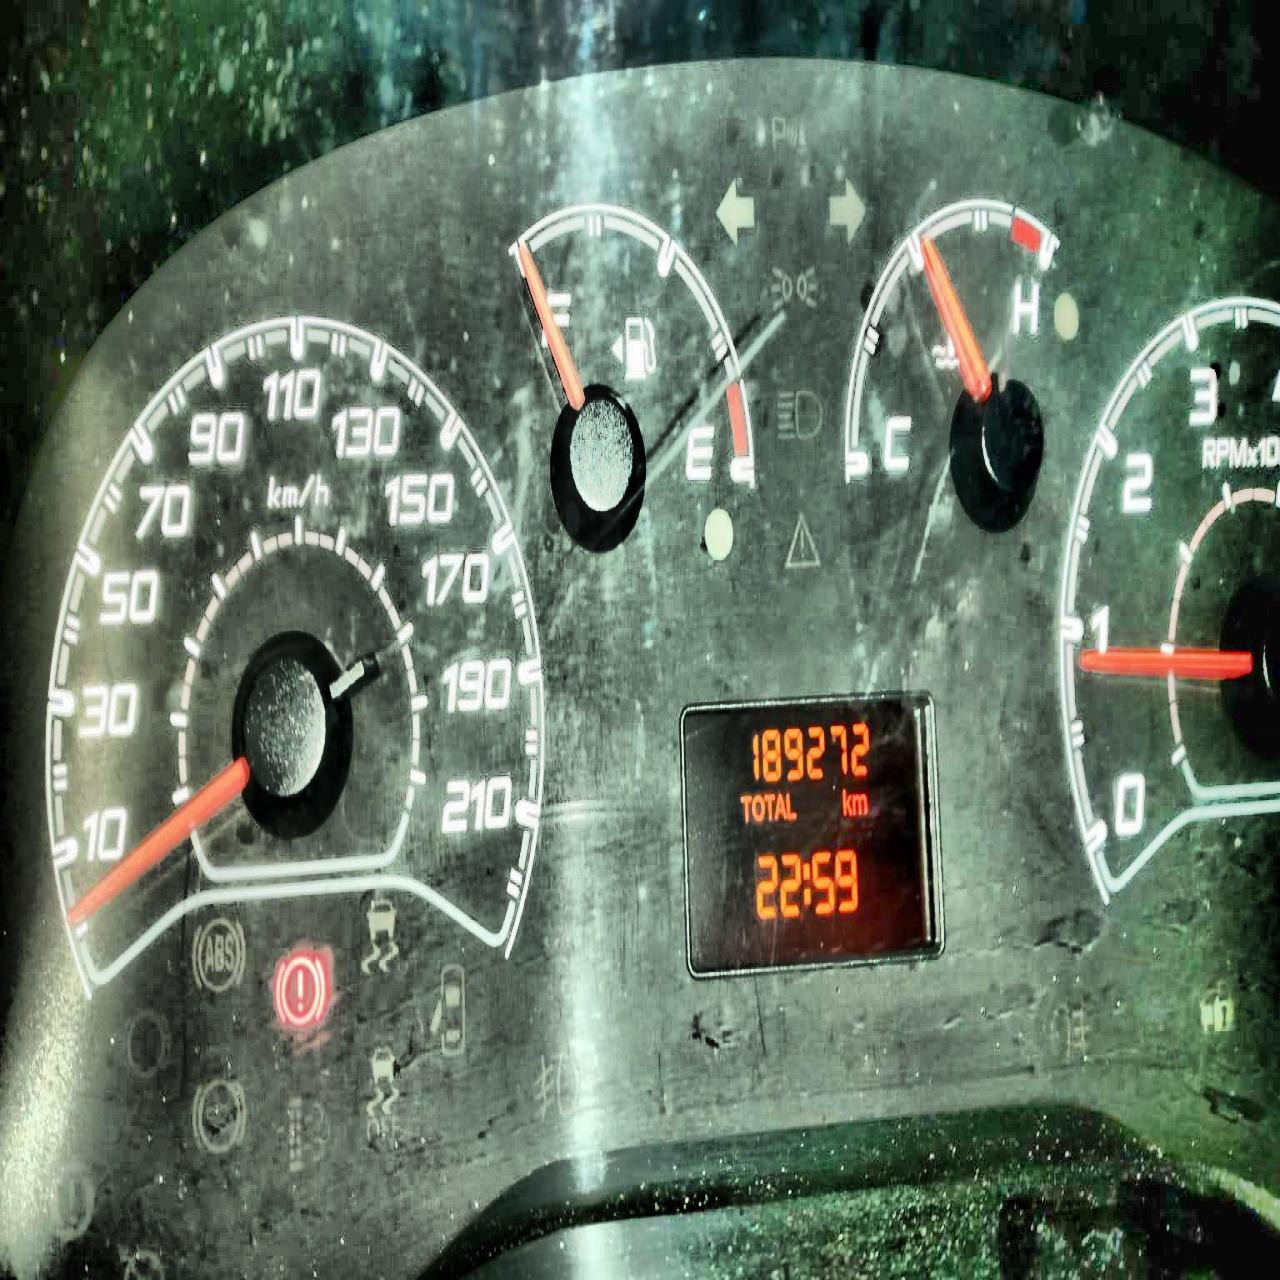1: (751, 731, 760, 781)
2: (756, 853, 776, 919), (779, 853, 799, 917), (806, 724, 825, 778), (850, 722, 869, 774)
5: (811, 851, 833, 912)
7: (829, 723, 846, 774)
8: (762, 728, 781, 783)
9: (835, 847, 858, 911), (783, 726, 803, 779)
X: (802, 860, 810, 905), (750, 795, 764, 821), (851, 791, 866, 815), (774, 791, 785, 821), (763, 792, 775, 821), (740, 795, 750, 824), (842, 787, 851, 815), (787, 791, 796, 819)
odometer: (679, 686, 947, 982)
